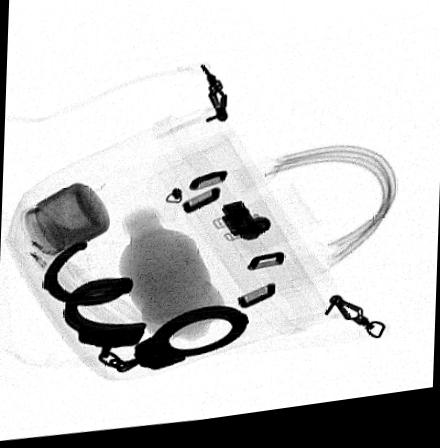HandCuffs: (39, 238, 248, 376)
